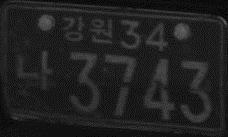3: (68, 51, 100, 113), (180, 60, 212, 122), (119, 19, 140, 48)
4: (142, 58, 175, 119), (146, 22, 167, 51)
7: (104, 54, 137, 117)
강원_O: (62, 15, 112, 43)
나: (15, 51, 53, 89)
